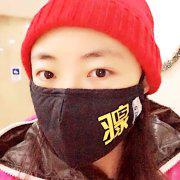OK: (26, 38, 151, 163)
